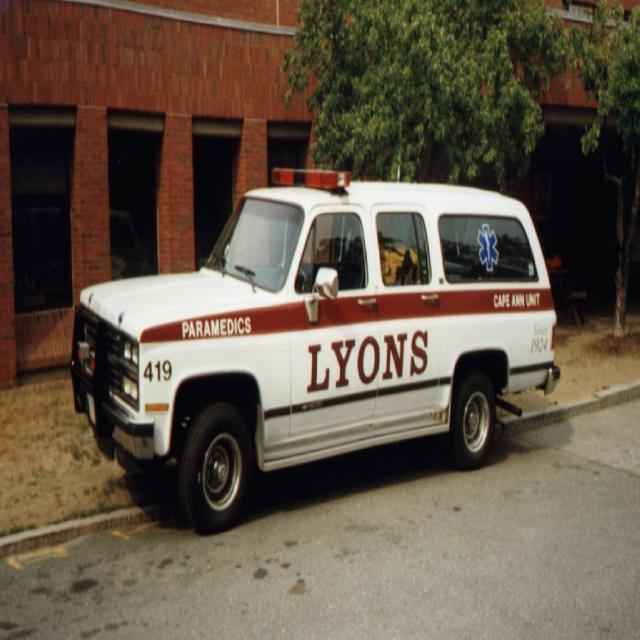car: (71, 167, 563, 532)
